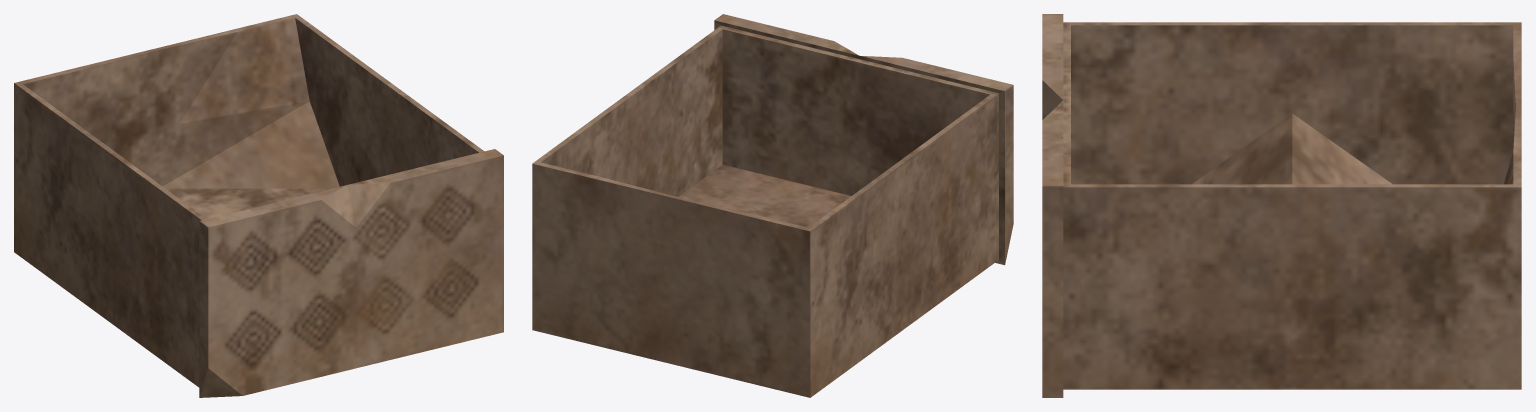
File: bone drawer 1 .fbx
3 renders of one model, left to right at view 1: azimuth 30°, elevation 25°; view 2: azimuth 150°, elevation 25°; view 3: azimuth 270°, elevation 25°, orthographic. The views are drawn at different scales.
Visible parts, largest first — view 1: Cube.005; view 2: Cube.005; view 3: Cube.005.
Boxes of the visible parts, x1,y1,x2,y2 form: Cube.005: (14, 14, 503, 397); Cube.005: (532, 14, 1013, 397); Cube.005: (1042, 14, 1521, 397).
Size of the model in its own units: 132 by 75.48 by 155.
1 material, 1 textured.
